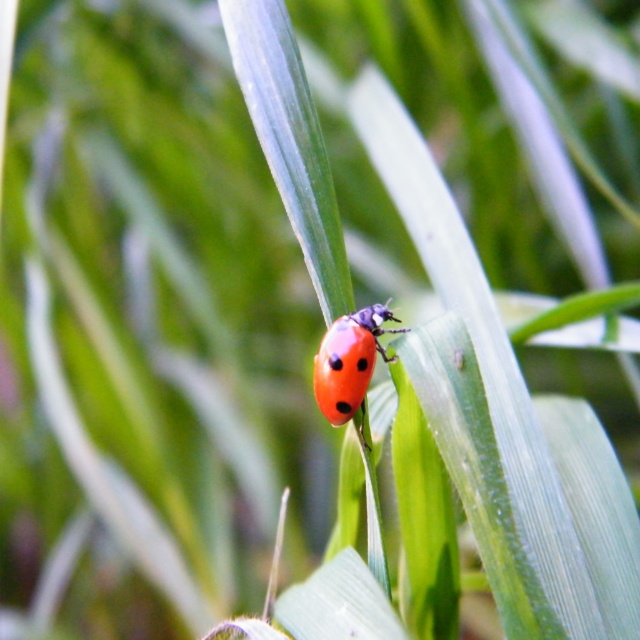Ladybug: (313, 299, 410, 455)
